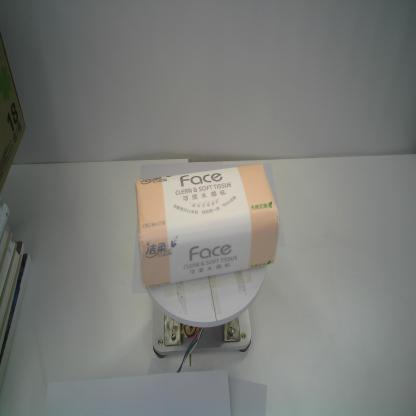Tissue: (135, 162, 279, 289)
